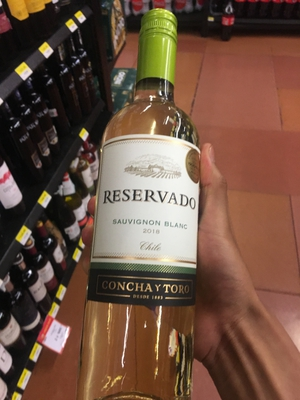reservado sauvignon blanc: (88, 20, 202, 400)
